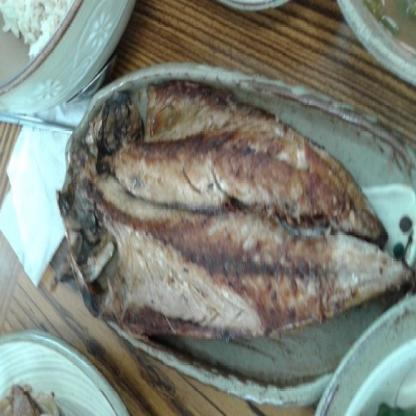Peixe: (49, 78, 416, 345)
